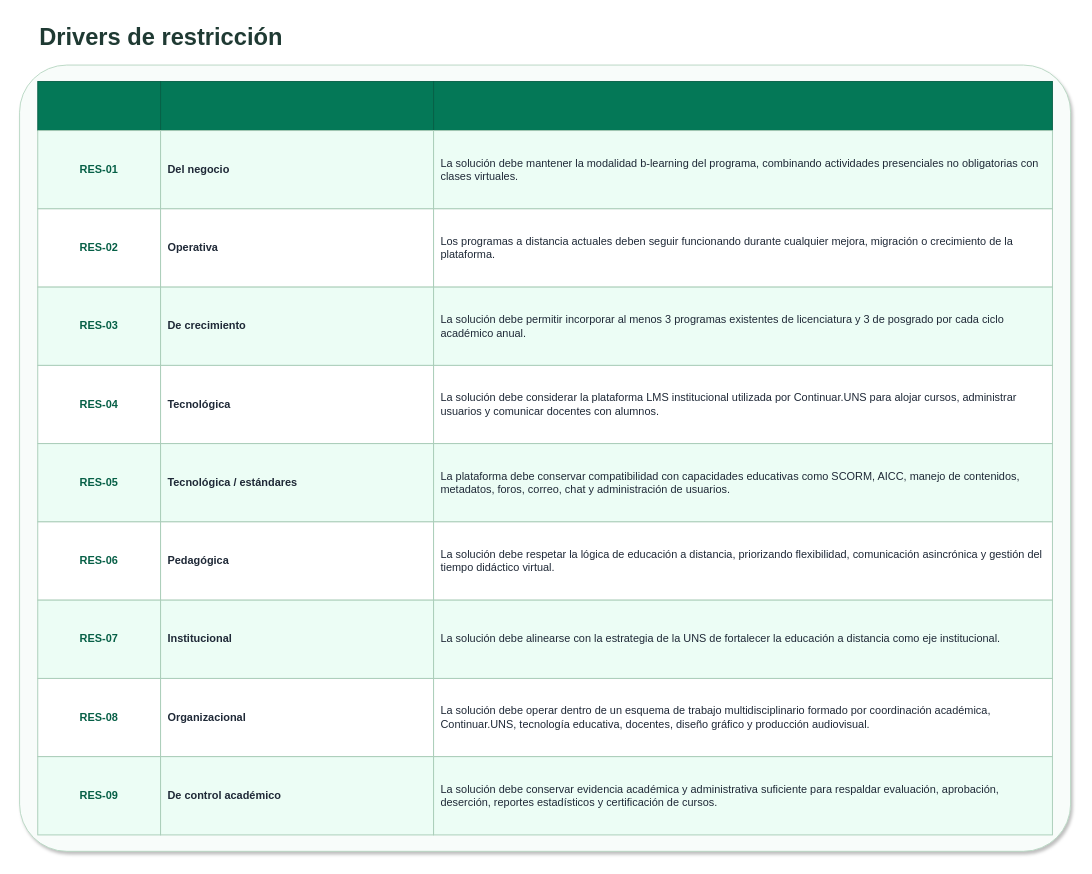
This 1092x874 diagram has some shape labels left out. The shapes that lost their labels are listed below. From the top down, each one's centre as x and y in pixels, then its label:
At (x=99, y=106): "ID".
At (x=297, y=106): "Tipo de restricción".
At (x=742, y=106): "Descripción".
